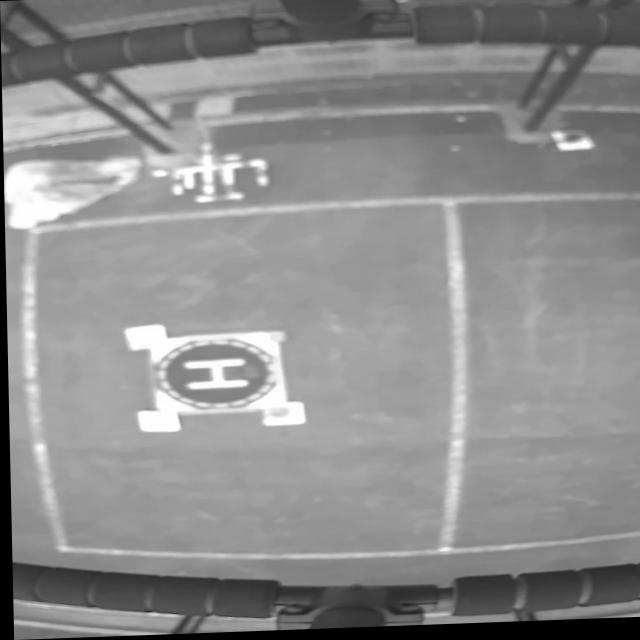Helipad: (181, 359, 250, 390)
